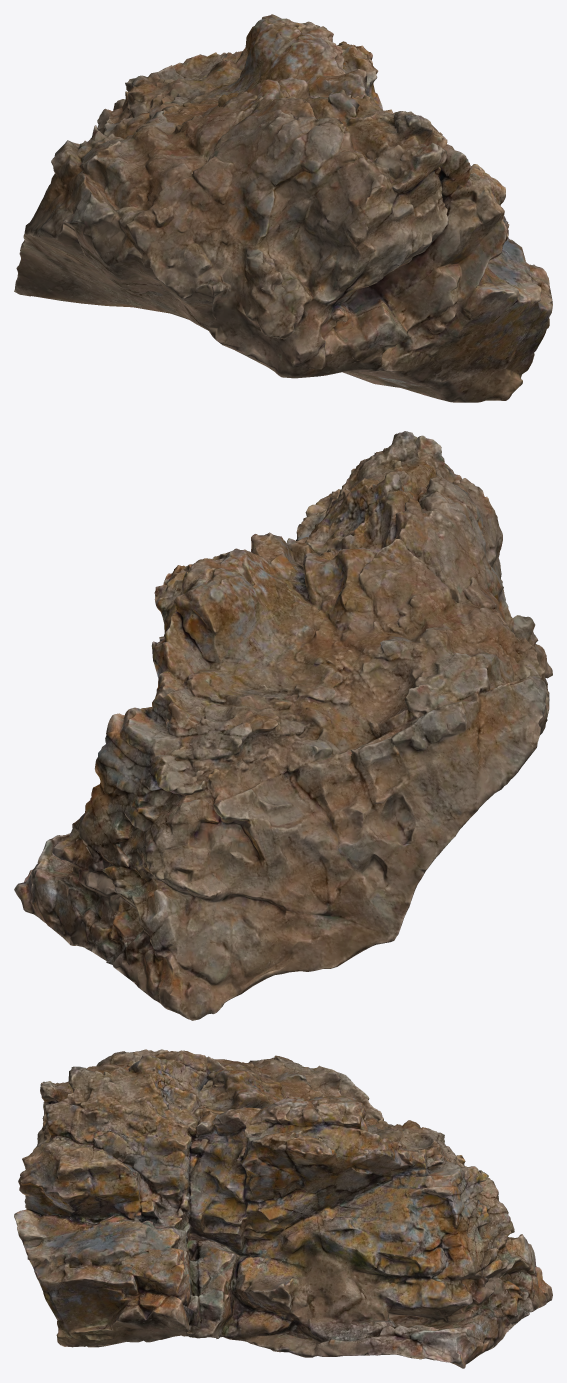
File: boulder_01.glb
3 views of the same model, one above another, from view 1: azimuth 30°, elevation 25°; view 2: azimuth 150°, elevation 25°; view 3: azimuth 270°, elevation 25° (orthographic). The views are drawn at different scales.
Visible parts, largest first — view 1: boulder_01; view 2: boulder_01; view 3: boulder_01.
Boxes of the visible parts, x1,y1,x2,y2 form: boulder_01: (14,14,552,402); boulder_01: (14,431,552,1020); boulder_01: (14,1049,552,1368).
Size of the model in its own units: 1.27 by 1 by 1.83.
Materials: 1 (1 with a texture image).
